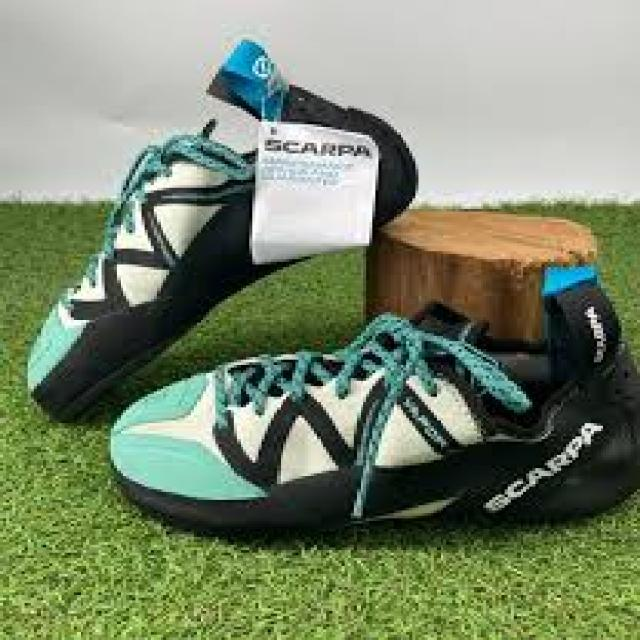climbing-shoes: (25, 57, 421, 422), (109, 272, 638, 544)
